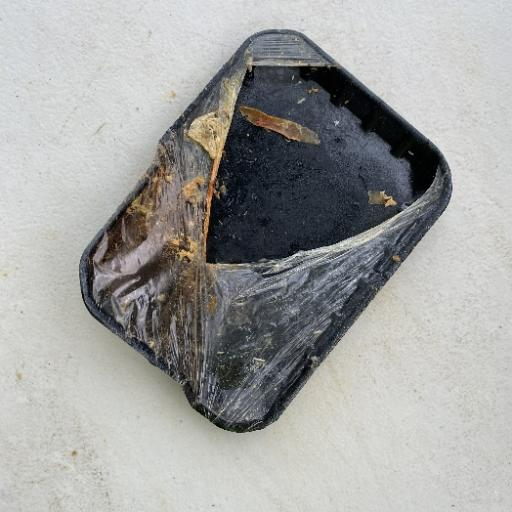Plastic: (78, 26, 454, 434)
